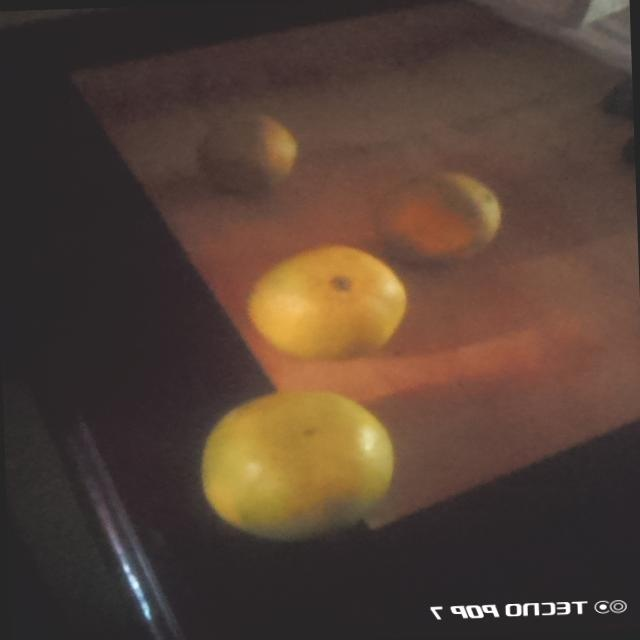agrume: (184, 373, 420, 557), (235, 240, 414, 362), (384, 164, 510, 266), (209, 112, 303, 200)
